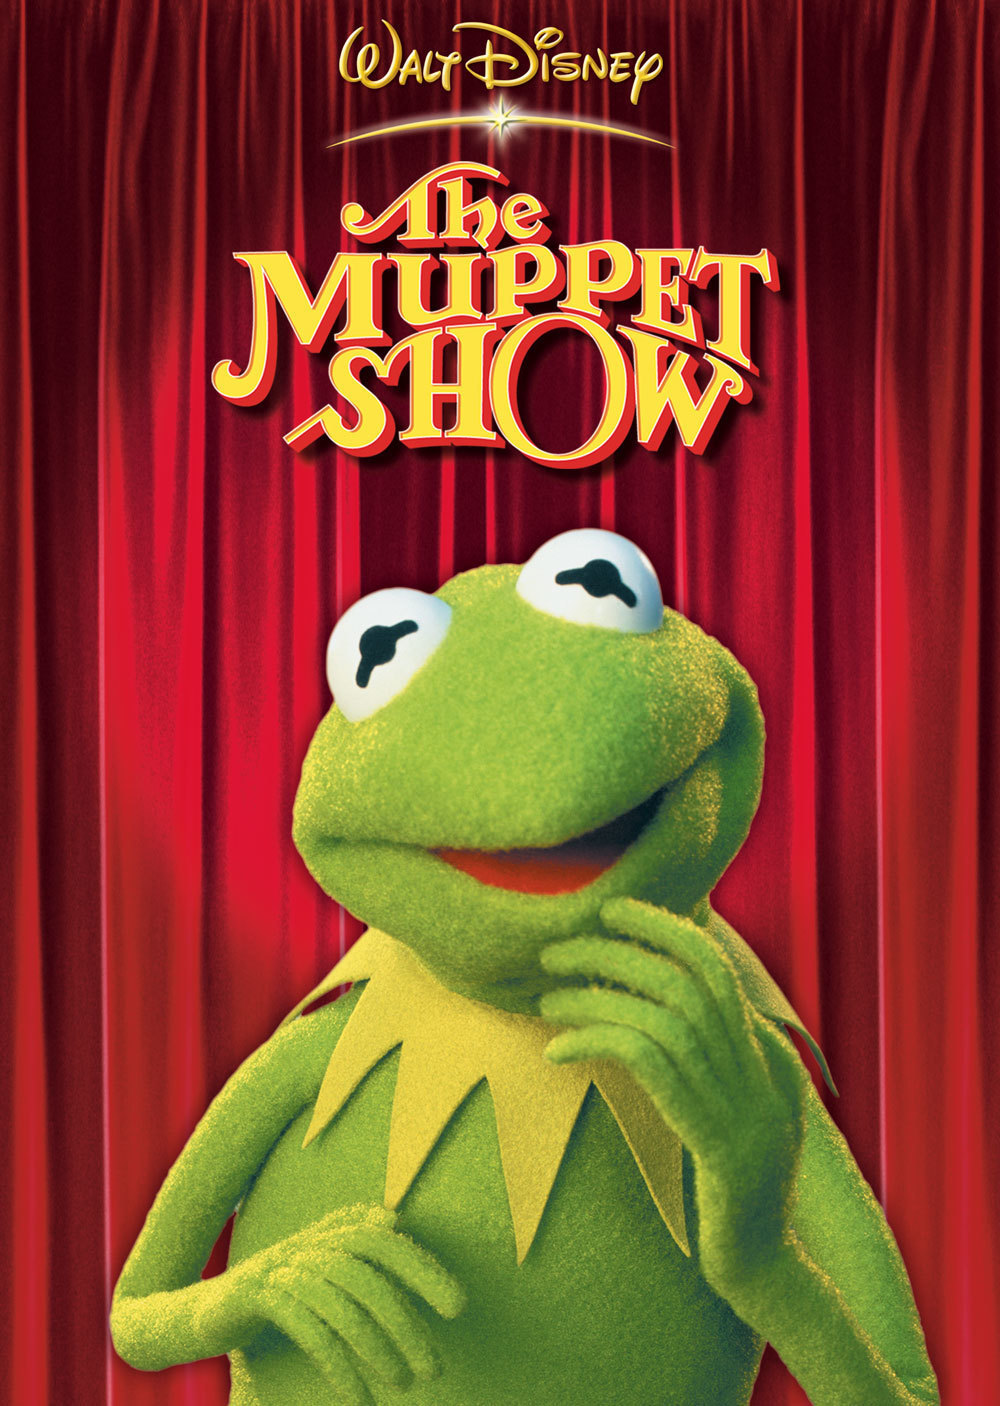kermit: (289, 513, 771, 1010)
